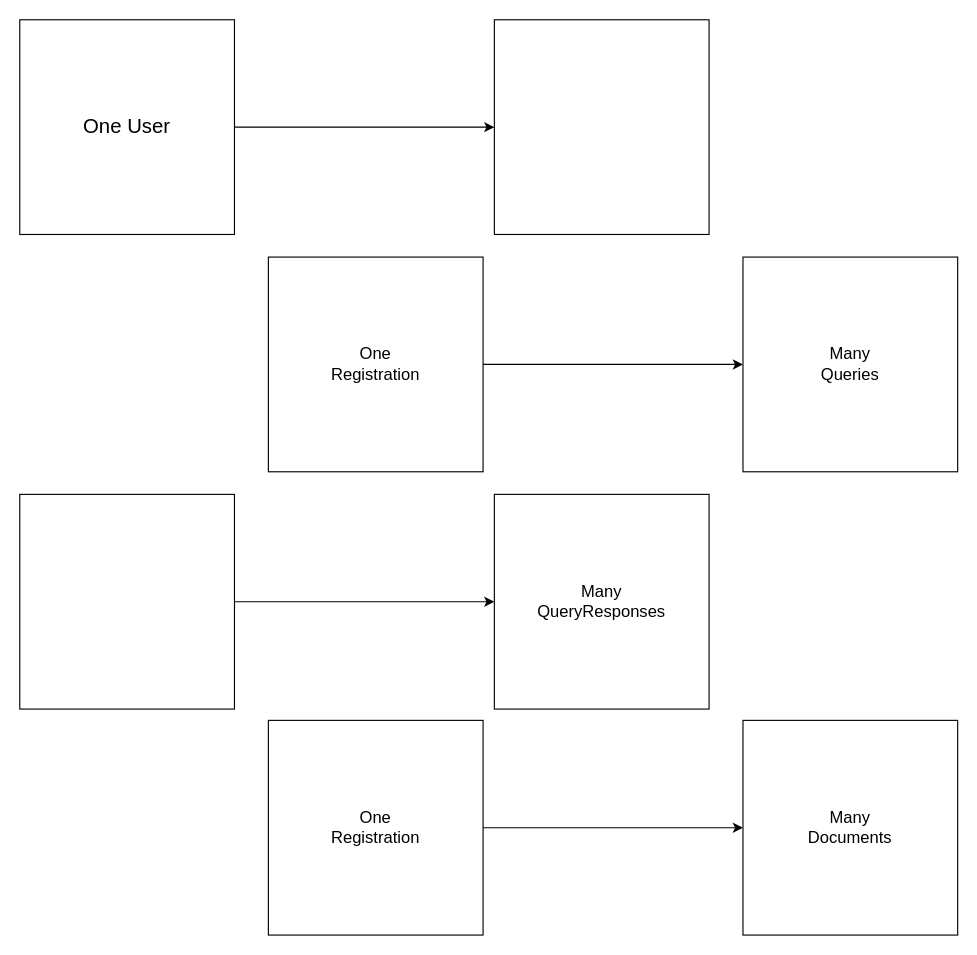
Image size: 977x955. Some labels were removed from this diagram. Here are the shapes that lost their labels. From the top down, the box of each, then its label:
(493, 19, 709, 234): Many Registrations
(19, 493, 234, 709): One Query
